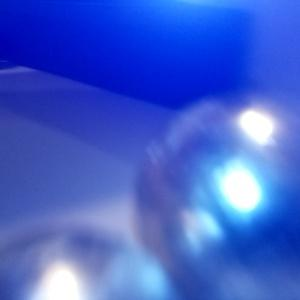alive_ball: (136, 94, 300, 300), (1, 226, 152, 300)
